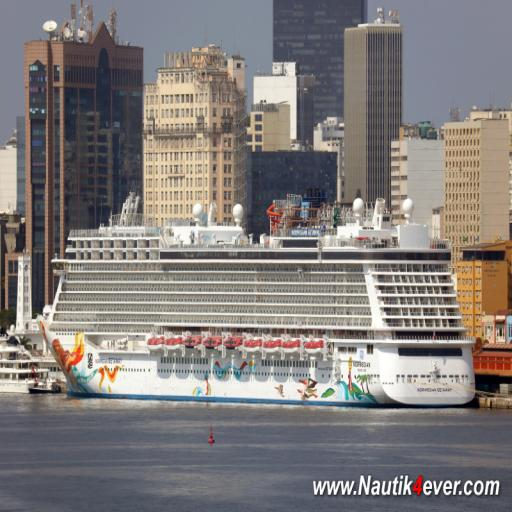cruises: (33, 188, 481, 416)
